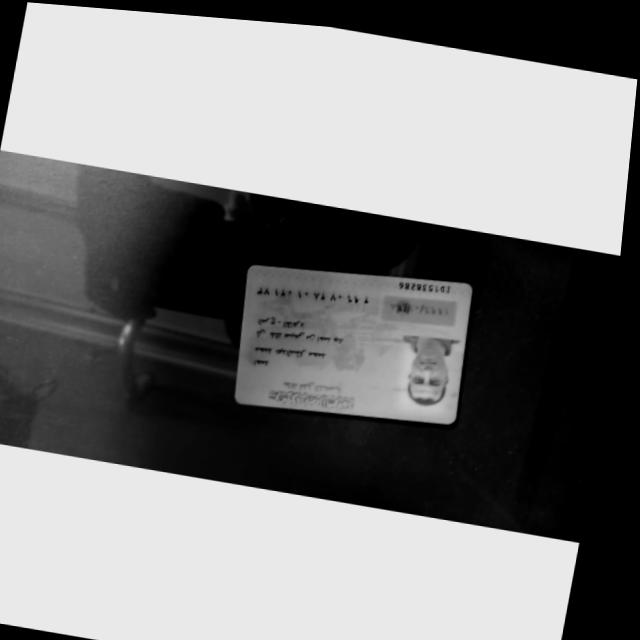front: (234, 265, 472, 425)
